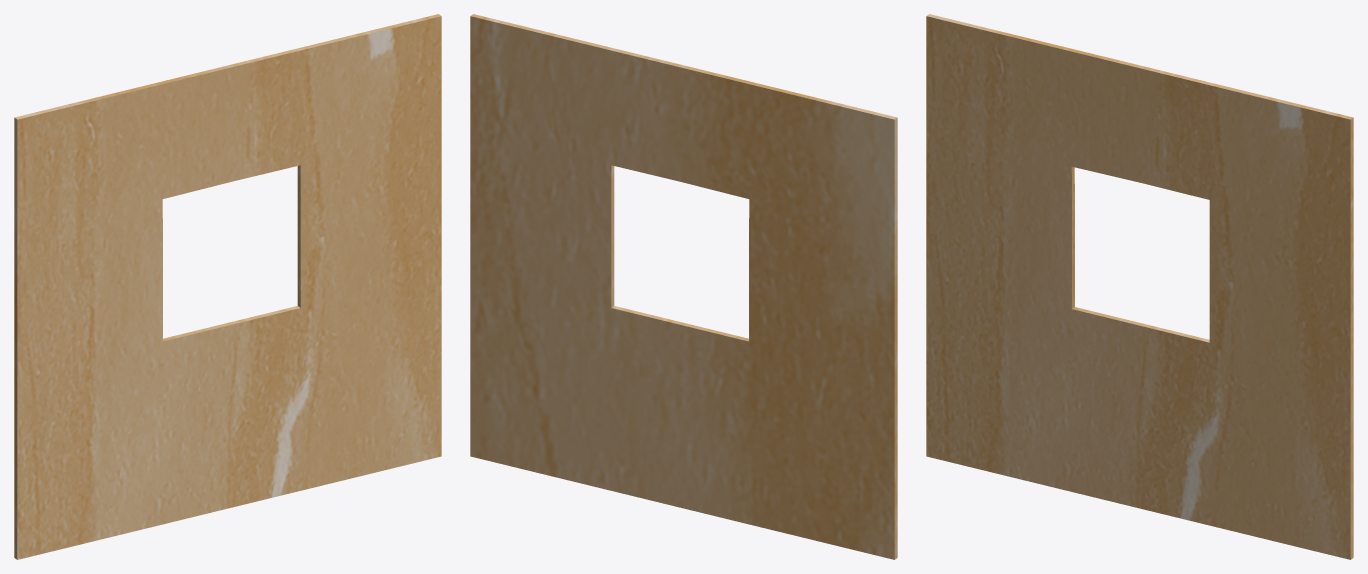
Rendered from Mesh_Sc_Cale_WallWindow.fbx.
3 views of the same model, side by side, from view 1: azimuth 30°, elevation 25°; view 2: azimuth 150°, elevation 25°; view 3: azimuth 330°, elevation 25° (orthographic).
Visible parts, largest first — view 1: T_Sc_Cale; view 2: T_Sc_Cale; view 3: T_Sc_Cale.
Part boxes in pixels (x1=…): T_Sc_Cale: x1=14, y1=14, x2=441, y2=559; T_Sc_Cale: x1=470, y1=14, x2=897, y2=559; T_Sc_Cale: x1=926, y1=14, x2=1353, y2=559.
Bounding box in the file's own units: 166 × 165 × 2.
